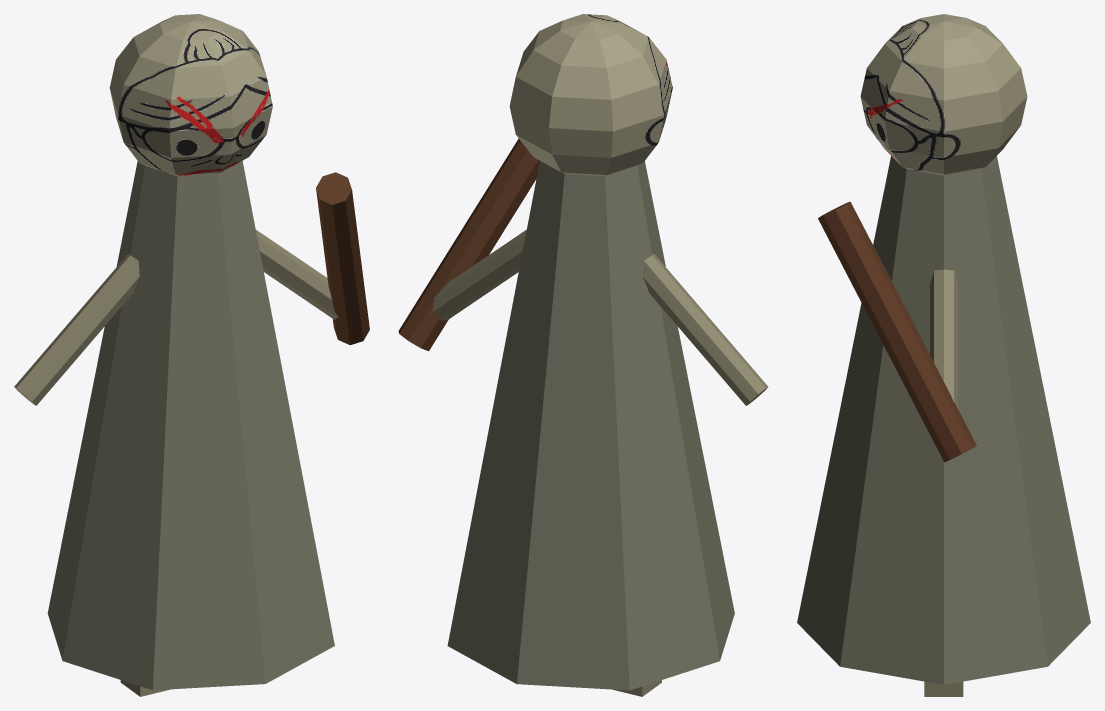
File: granny.glb
3 renders of one model, left to right at view 1: azimuth 30°, elevation 25°; view 2: azimuth 150°, elevation 25°; view 3: azimuth 270°, elevation 25°, orthographic.
Visible parts, largest first — view 1: body, head, weapon, arm_2, arm; view 2: body, head, weapon, arm_2, arm; view 3: body, head, weapon, arm, leg_2.
Boxes of the visible parts, x1=… form: body: x1=47, y1=161, x2=334, y2=690; head: x1=109, y1=14, x2=272, y2=176; weapon: x1=316, y1=172, x2=369, y2=345; arm_2: x1=14, y1=253, x2=139, y2=405; arm: x1=255, y1=229, x2=338, y2=319; body: x1=447, y1=161, x2=734, y2=690; head: x1=509, y1=14, x2=672, y2=176; weapon: x1=398, y1=138, x2=539, y2=351; arm_2: x1=643, y1=254, x2=768, y2=405; arm: x1=432, y1=230, x2=526, y2=320; body: x1=797, y1=156, x2=1090, y2=684; head: x1=860, y1=14, x2=1027, y2=175; weapon: x1=818, y1=201, x2=976, y2=462; arm: x1=930, y1=269, x2=957, y2=408; leg_2: x1=924, y1=681, x2=963, y2=696.
Bounding box in the file's own units: 2.02 × 3.52 × 1.45.
Materials: 4 (1 with a texture image).
